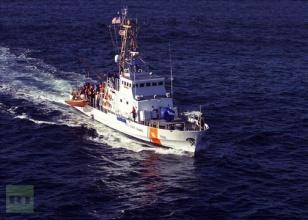otherboat: (76, 9, 205, 152)
